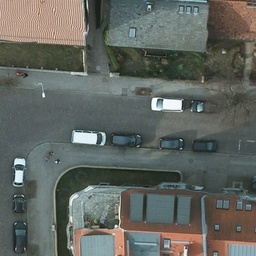car: (110, 130, 142, 148), (190, 98, 222, 115), (13, 220, 26, 254), (12, 156, 25, 188), (10, 192, 25, 217), (159, 136, 183, 151), (194, 138, 218, 151)
van: (72, 129, 105, 149), (149, 96, 184, 111)
